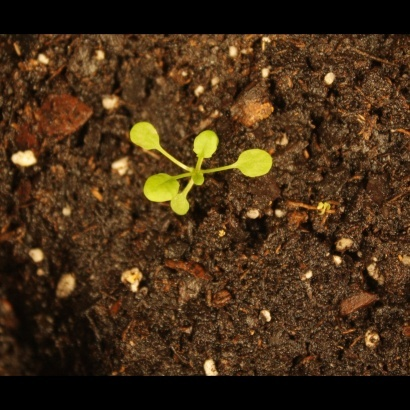leaf: (233, 146, 278, 180), (141, 172, 184, 207), (184, 131, 227, 165), (128, 121, 166, 156), (166, 194, 199, 219), (188, 170, 211, 193)
